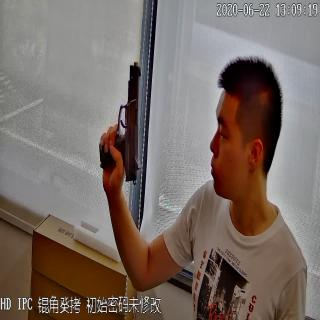gun: (98, 61, 143, 185)
